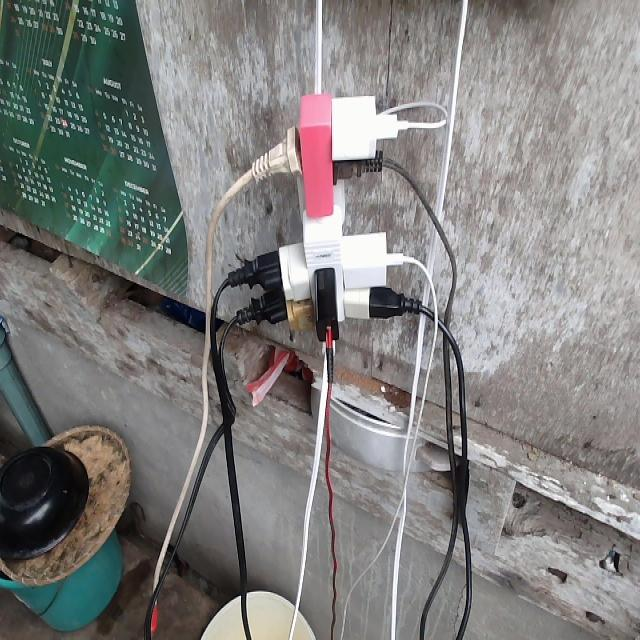-: (222, 91, 424, 377)
